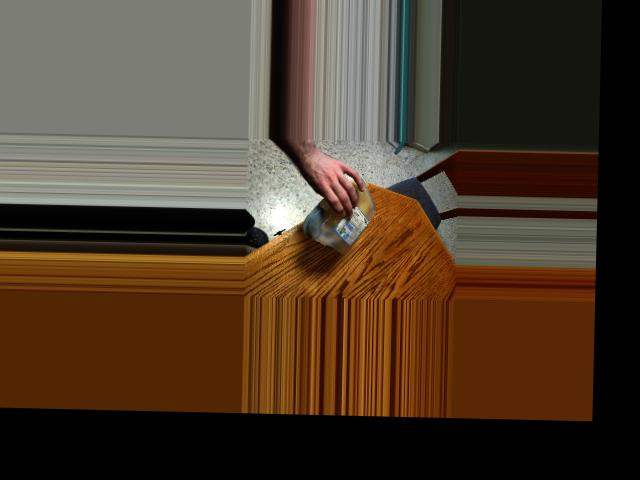cheese: (303, 166, 378, 257)
